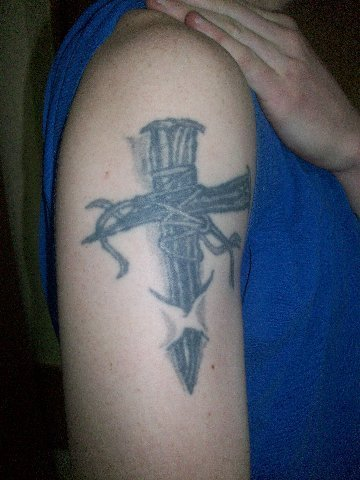tatu9_krest: (86, 110, 237, 389)
